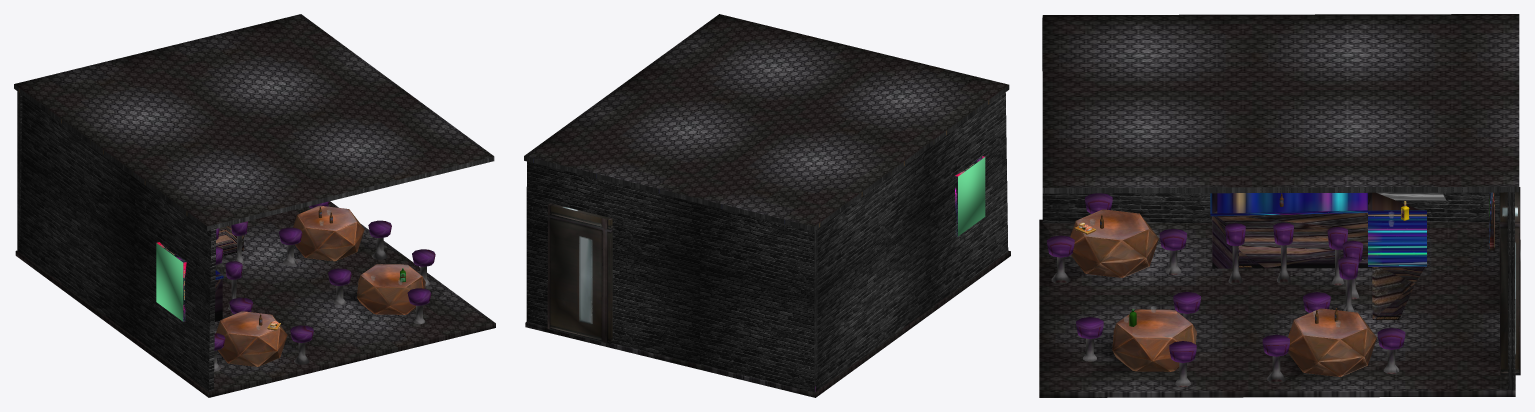
File: halobar.glb
The picture shows the model from 3 angles, left to right: view 1: azimuth 30°, elevation 25°; view 2: azimuth 150°, elevation 25°; view 3: azimuth 270°, elevation 25°; orthographic projection. The views are drawn at different scales.
Visible parts, largest first — view 1: skfb_offset; view 2: skfb_offset; view 3: skfb_offset.
Boxes of the visible parts, bbox=[...] form: skfb_offset: bbox=[14, 14, 495, 397]; skfb_offset: bbox=[524, 14, 1010, 397]; skfb_offset: bbox=[1039, 14, 1520, 397].
Size of the model in its own units: 5.8 by 3.31 by 6.83.
20 materials, 19 textured.
